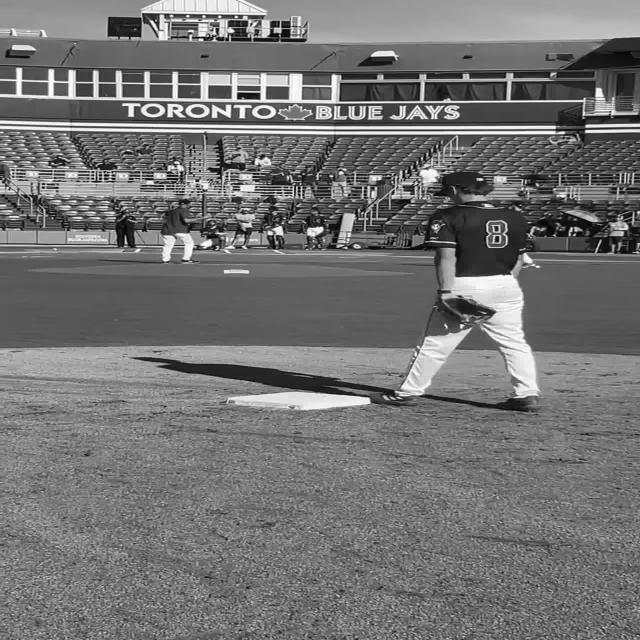base: (228, 390, 383, 412)
baseball_glove: (433, 292, 497, 326)
shoe: (369, 391, 419, 406), (505, 396, 543, 412), (180, 259, 200, 263), (161, 260, 170, 264)
